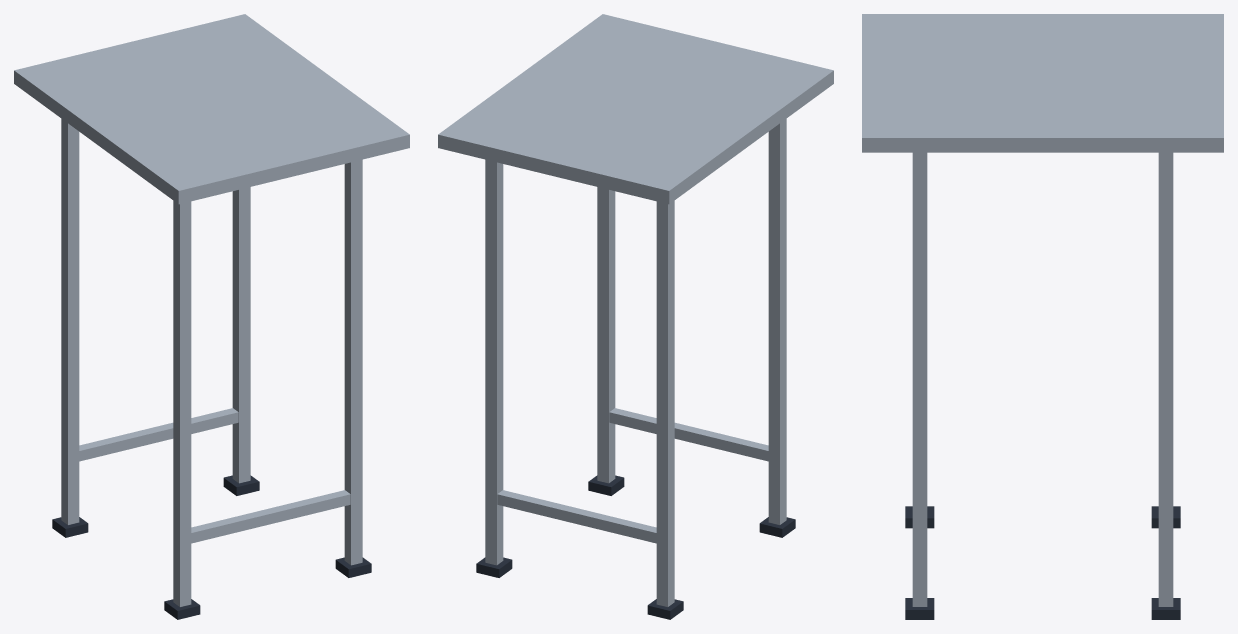
File: SM_MPR_CADFeedTerminalBay.fbx
3 renders of one model, left to right at view 1: azimuth 30°, elevation 25°; view 2: azimuth 150°, elevation 25°; view 3: azimuth 270°, elevation 25°, orthographic. The views are drawn at different scales.
Parts seen in each view (by area): view 1: SM_MPR_CADFeedTerminalBay; view 2: SM_MPR_CADFeedTerminalBay; view 3: SM_MPR_CADFeedTerminalBay.
Boxes of the visible parts, box(x1,y1,x2,y2) form: SM_MPR_CADFeedTerminalBay: box(14, 14, 409, 619); SM_MPR_CADFeedTerminalBay: box(438, 14, 833, 619); SM_MPR_CADFeedTerminalBay: box(862, 14, 1223, 619).
Bounding box in the file's own units: 81 × 100 × 150.
